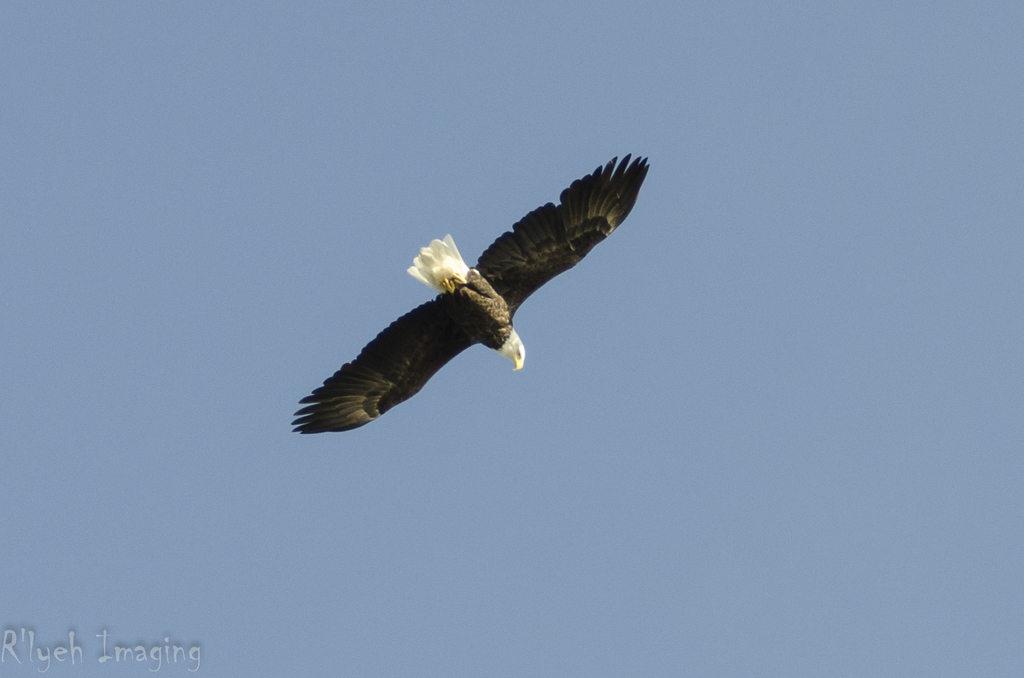person: (290, 153, 650, 434)
